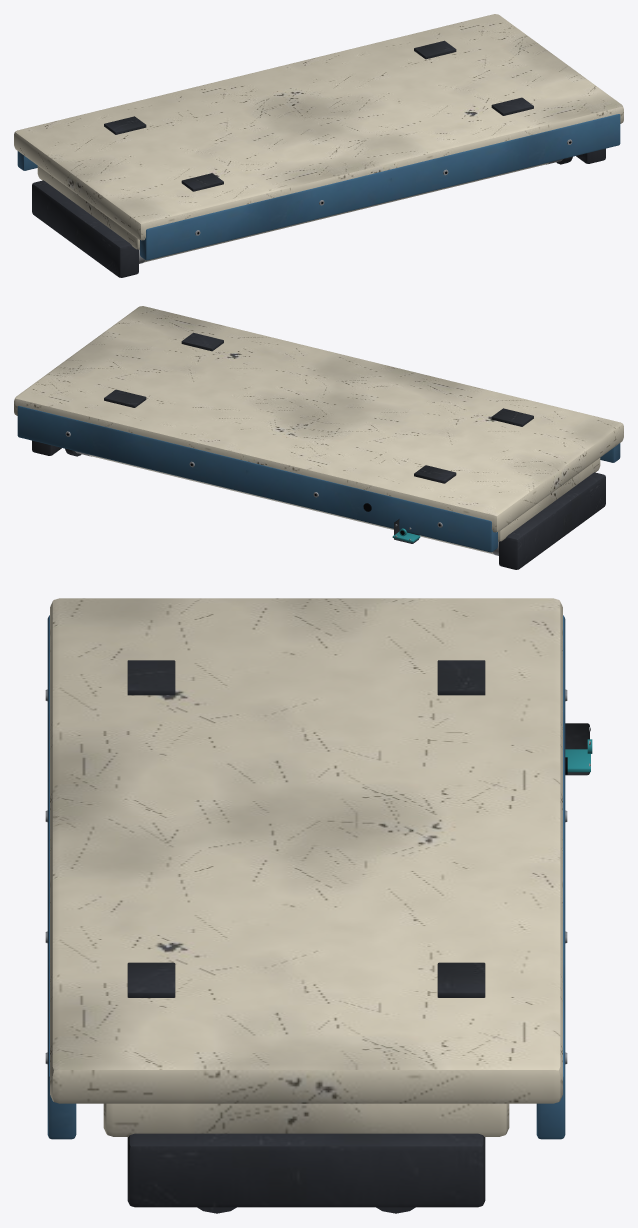
Rendered from fluorescent_light.glb.
The picture shows the model from 3 angles, top to bottom: view 1: azimuth 30°, elevation 25°; view 2: azimuth 150°, elevation 25°; view 3: azimuth 270°, elevation 25°; orthographic projection. The views are drawn at different scales.
Visible parts, largest first — view 1: Body; view 2: Body; view 3: Body.
Boxes of the visible parts, x1=… form: Body: x1=14, y1=14, x2=623, y2=277; Body: x1=14, y1=306, x2=623, y2=569; Body: x1=45, y1=598, x2=592, y2=1213.
Size of the model in its own units: 0.944 by 0.157 by 0.4585.
10 materials, 4 textured.
